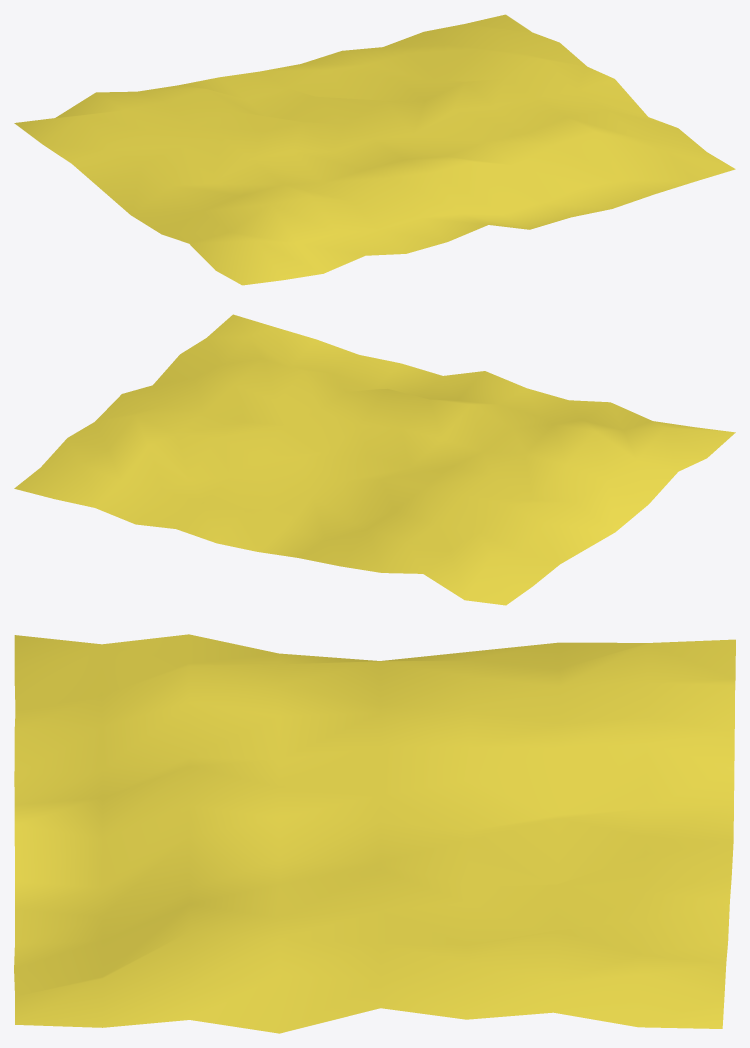
The model's file is MSH_stat_pathpart_a.obj.
3 views of the same model, one above another, from view 1: azimuth 30°, elevation 25°; view 2: azimuth 150°, elevation 25°; view 3: azimuth 270°, elevation 25° (orthographic). The views are drawn at different scales.
Parts seen in each view (by area): view 1: MSH_stat_pathpart_a env_base_s7 env_base; view 2: MSH_stat_pathpart_a env_base_s7 env_base; view 3: MSH_stat_pathpart_a env_base_s7 env_base.
Part boxes in pixels (box(x1,y1,x2,y2)): MSH_stat_pathpart_a env_base_s7 env_base: box(14, 14, 735, 285); MSH_stat_pathpart_a env_base_s7 env_base: box(14, 314, 735, 605); MSH_stat_pathpart_a env_base_s7 env_base: box(14, 634, 735, 1033).
Size of the model in its own units: 14.83 by 1.18 by 11.79.
